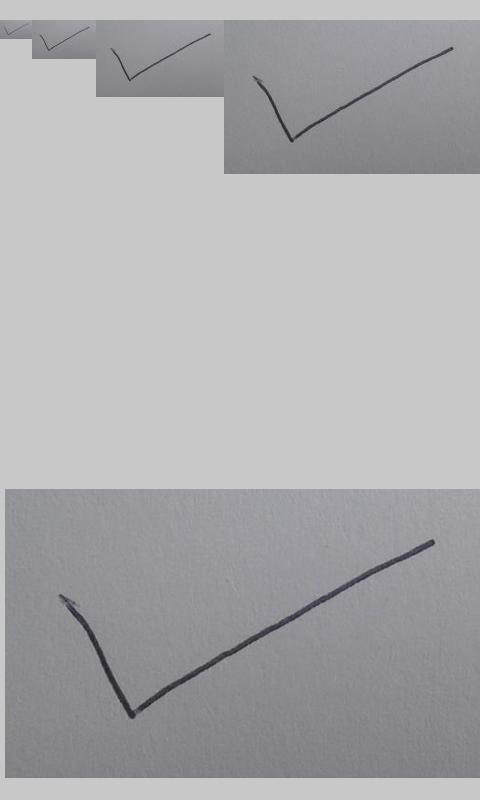check_box: (61, 539, 433, 720), (253, 45, 455, 143), (110, 33, 210, 81), (40, 26, 90, 51), (4, 24, 27, 35)
